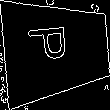P_E: (32, 29, 80, 71)
